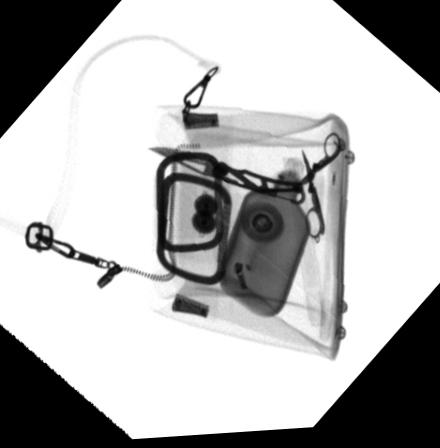Knife: (147, 149, 305, 210)
Scissors: (287, 133, 344, 243)
